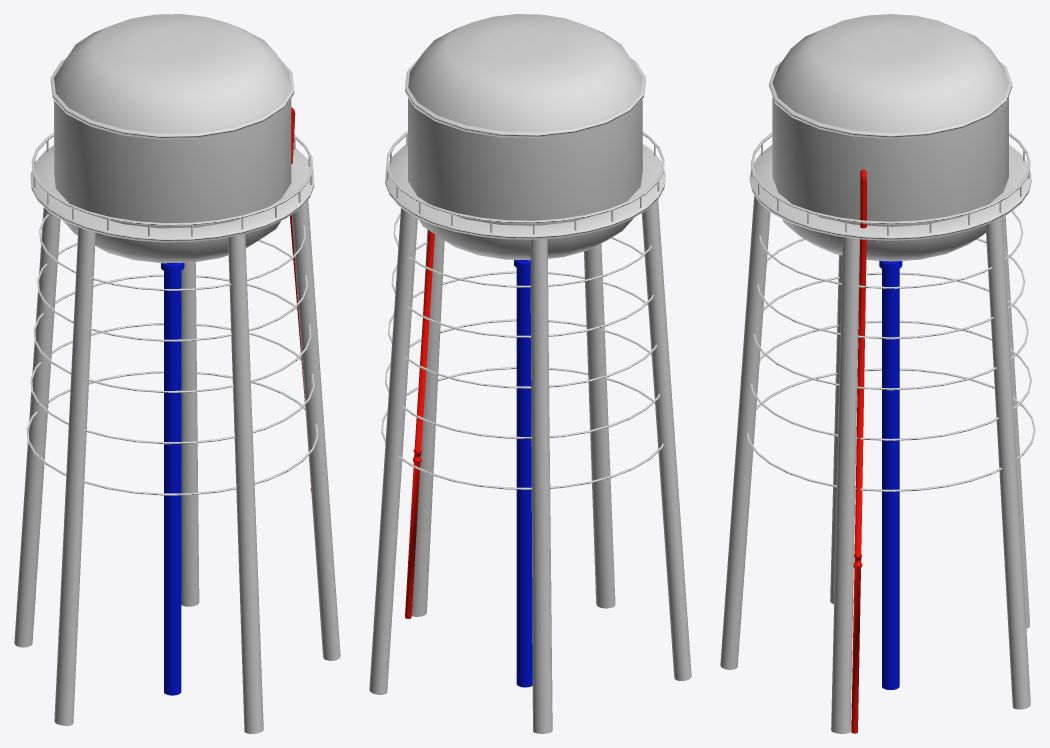
Rendered from TorreAgua 1.fbx.
The picture shows the model from 3 angles, left to right: view 1: azimuth 30°, elevation 25°; view 2: azimuth 150°, elevation 25°; view 3: azimuth 270°, elevation 25°; orthographic projection.
Visible parts, largest first — view 1: TorreAgua; view 2: TorreAgua; view 3: TorreAgua.
Part boxes in pixels (box(x1,y1,x2,y2)): TorreAgua: box(14, 14, 340, 733); TorreAgua: box(369, 14, 691, 733); TorreAgua: box(720, 14, 1035, 733).
Bounding box in the file's own units: 275 × 598 × 266.
